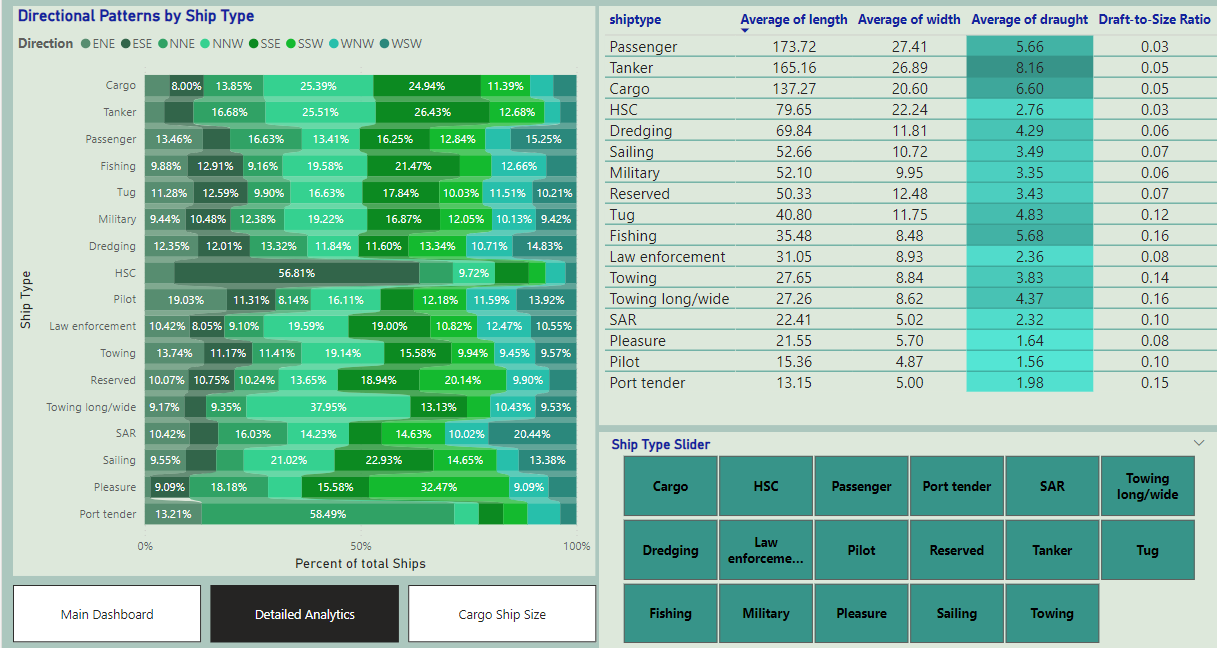

The page's visual inventory and layout, read from the dashboard file:
{"tool":"powerbi","page":{"name":"Detailed Analytics","canvas":[1280,720],"ordinal":1},"visuals":[{"type":"tableEx","fields":{"Values":["path_to_cleaned_ais_data.shiptype","path_to_cleaned_ais_data.length","path_to_cleaned_ais_data.width","path_to_cleaned_ais_data.draught","path_to_cleaned_ais_data.Draft-to-Size Ratio"]},"box":[625.6,45.1,654.4,438.5],"z":0},{"type":"pageNavigator","box":[11.7,651.7,613.6,60.6],"z":1000},{"type":"slicer","fields":{"Values":["path_to_cleaned_ais_data.shiptype"]},"box":[625.6,491.3,647.7,228.4],"z":2000},{"type":"hundredPercentStackedBarChart","title":"Directional Patterns by Ship Type","fields":{"Category":["path_to_cleaned_ais_data.shiptype"],"Y":["CountNonNull(path_to_cleaned_ais_data.mmsi)"],"Series":["path_to_cleaned_ais_data.waypoint"]},"box":[11.5,45.1,610.3,596.8],"z":3000},{"type":"actionButton","box":[0,0,100,40],"z":4000}]}

Visuals, with their boxes on the page's 1280x720 design canvas (x1, y1, x2, y2). These are canvas units, not pixel positions in the 1217x648 screenshot, which may show the page scaled, cropped or inside an application window:
tableEx - path_to_cleaned_ais_data.shiptype x path_to_cleaned_ais_data.length: [626, 45, 1280, 484]
pageNavigator: [12, 652, 625, 712]
slicer - path_to_cleaned_ais_data.shiptype: [626, 491, 1273, 720]
"Directional Patterns by Ship Type" hundredPercentStackedBarChart: [12, 45, 622, 642]
actionButton: [0, 0, 100, 40]
